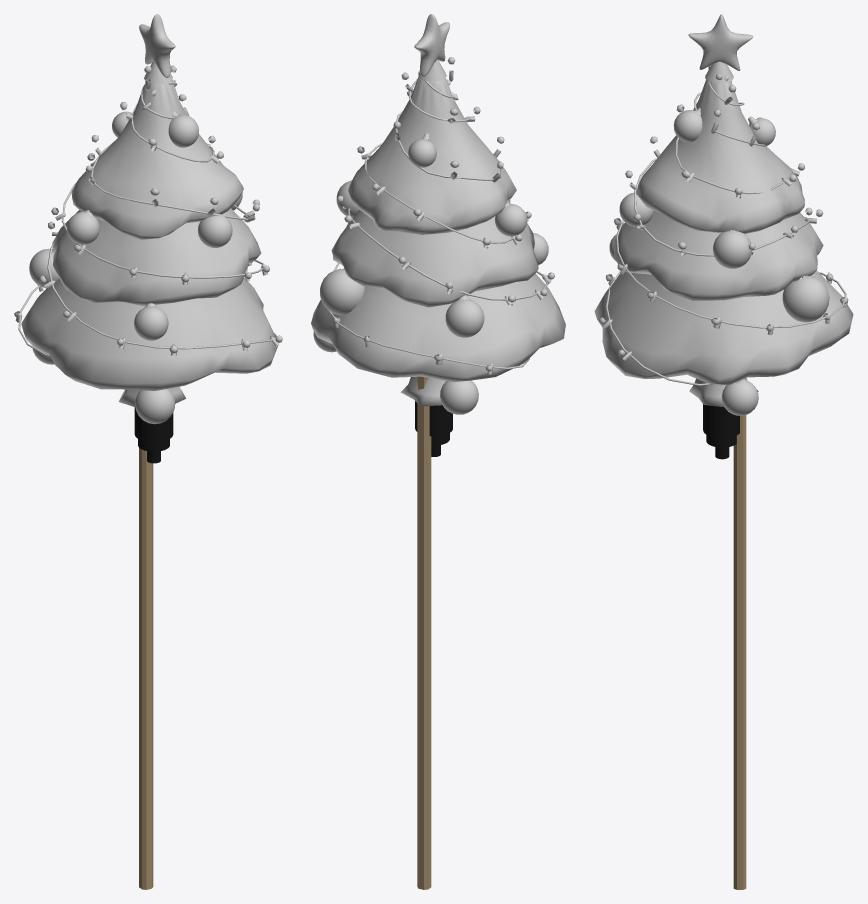
The model's file is Tree Rocket.fbx.
3 views of the same model, side by side, from view 1: azimuth 30°, elevation 25°; view 2: azimuth 150°, elevation 25°; view 3: azimuth 270°, elevation 25° (orthographic).
Parts seen in each view (by area): view 1: pine, Cube, pine_lamps, Cylinder; view 2: pine, Cube, pine_lamps, Cylinder; view 3: pine, Cube, Cylinder, pine_lamps.
Part boxes in pixels (x1,y1,x2,y2): pine: (15,14,278,424); Cube: (139,448,153,889); pine_lamps: (14,65,282,353); Cylinder: (134,407,173,463); pine: (311,14,565,414); Cube: (417,376,431,889); pine_lamps: (333,57,554,371); Cylinder: (415,401,452,456); pine: (594,14,853,415); Cube: (733,378,746,889); Cylinder: (703,404,739,459); pine_lamps: (599,73,847,356).
Size of the model in its own units: 39.82 by 151 by 40.53.
